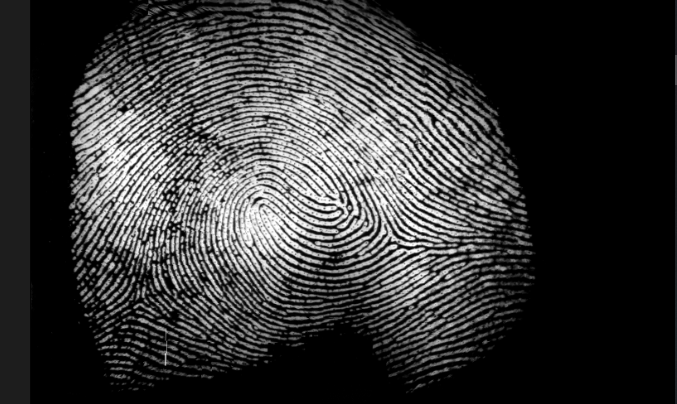deltas: (361, 207, 411, 261), (120, 279, 160, 325)
nucleo: (241, 180, 296, 228)
